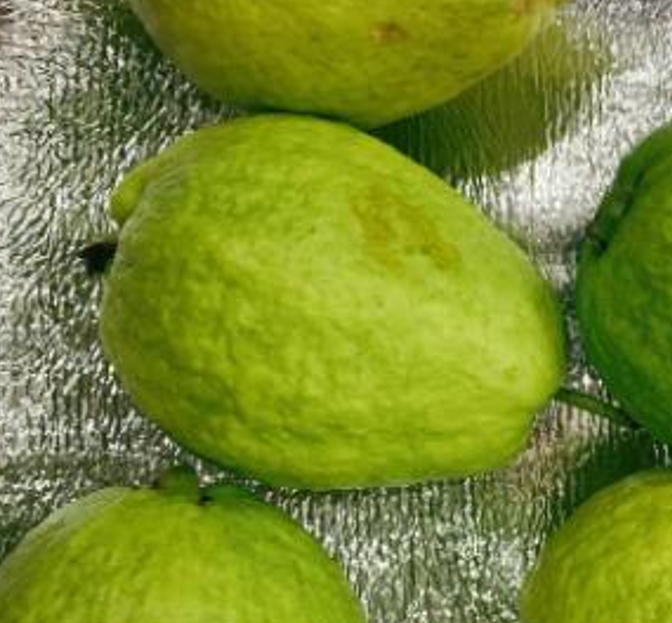guava_B: (98, 109, 569, 490)
